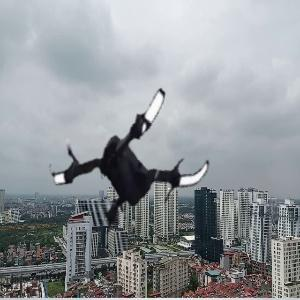drone: (38, 80, 213, 255)
